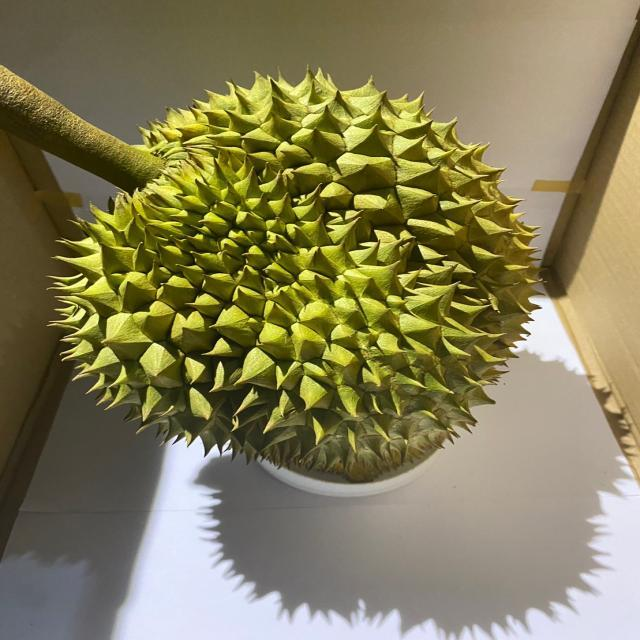immature: (45, 68, 551, 484)
